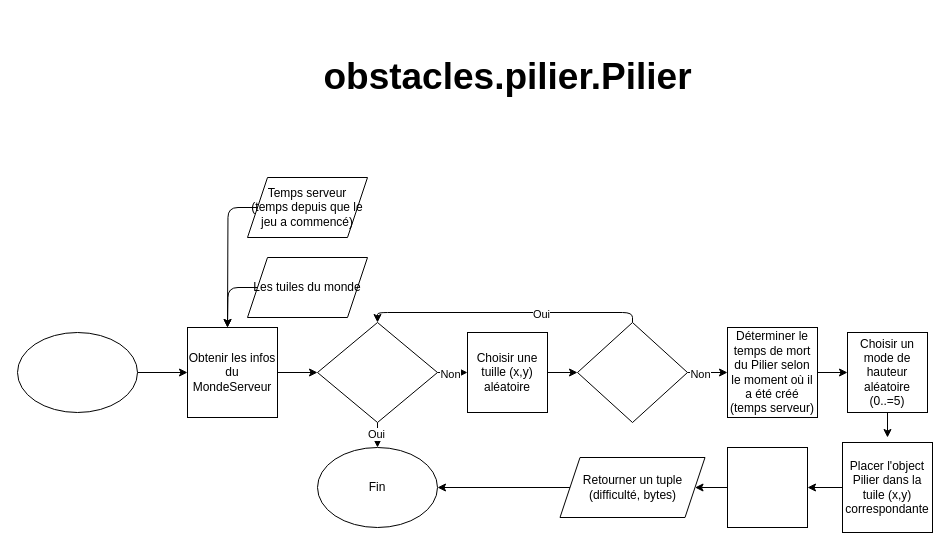
This 950x550 diagram has some shape labels left out. The shapes that lost their labels are listed below. From the top down, each one's centre as x and y in pixels, then its label:
the point at 77,372: Début
the point at 377,372: Y a-t-il eu >= 8 essais de générer un Pilier
the point at 632,372: La tuile est-elle occupée?
the point at 767,487: Créer un paquet représentant l'object Pilier en bytes
